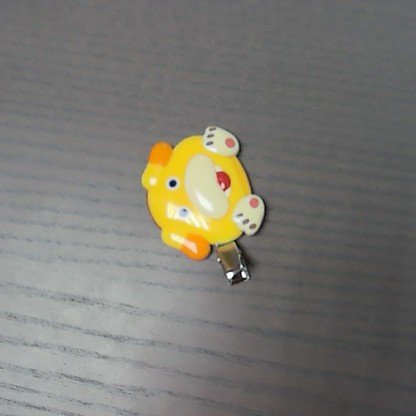dogclip: (140, 122, 265, 286)
